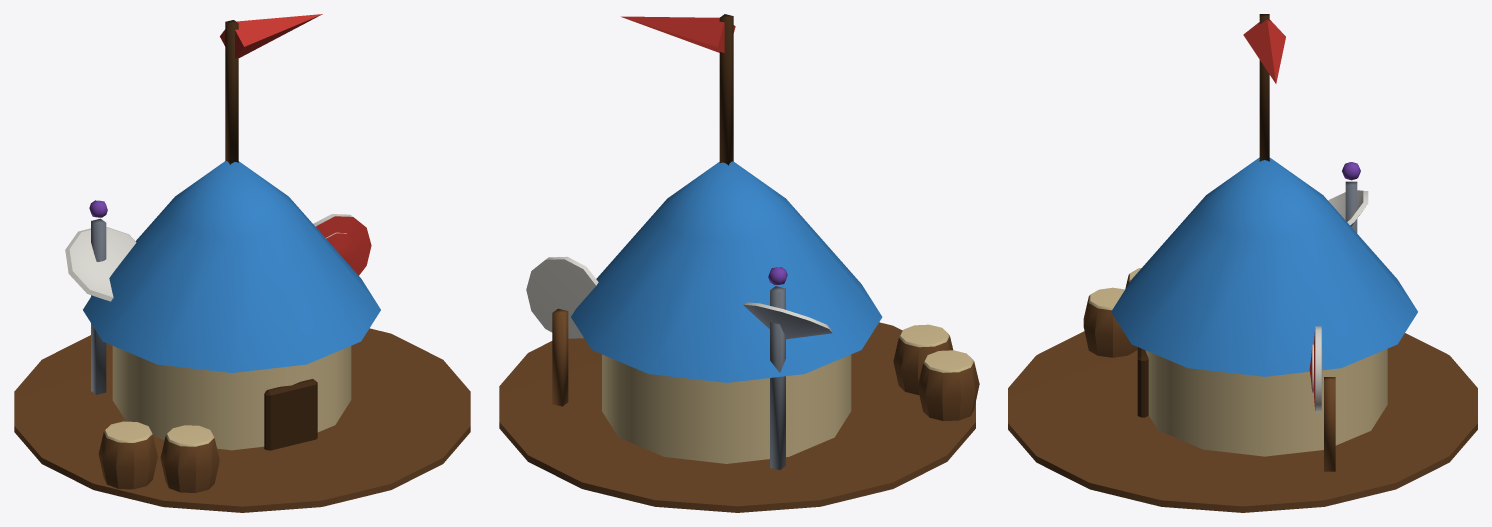
3 views of the same model, side by side, from view 1: azimuth 30°, elevation 25°; view 2: azimuth 150°, elevation 25°; view 3: azimuth 270°, elevation 25° (orthographic). The views are drawn at different scales.
Parts seen in each view (by area): view 1: vila_0_base, vila_1_torreta; view 2: vila_0_base, vila_1_torreta; view 3: vila_0_base, vila_1_torreta.
Boxes of the visible parts, left/top/right/bottom form: vila_0_base: left=14, top=161, right=470, bottom=512; vila_1_torreta: left=220, top=14, right=322, bottom=164; vila_0_base: left=499, top=161, right=979, bottom=512; vila_1_torreta: left=621, top=14, right=735, bottom=165; vila_0_base: left=1008, top=157, right=1477, bottom=512; vila_1_torreta: left=1243, top=14, right=1285, bottom=161.
Size of the model in its own units: 1.32 by 1.21 by 1.3.
